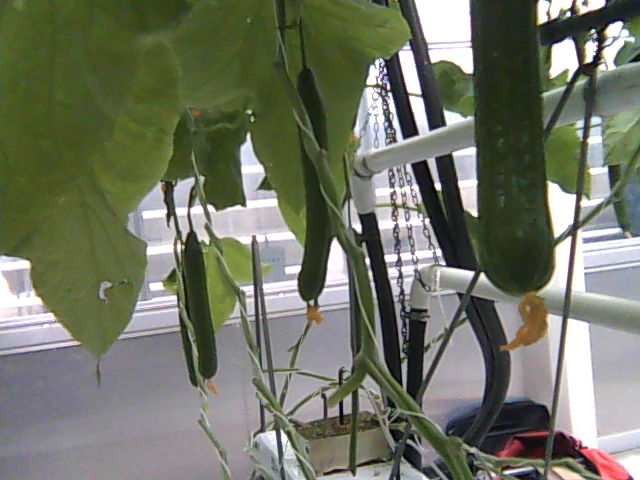concombre: (469, 1, 560, 354), (293, 64, 339, 325)
